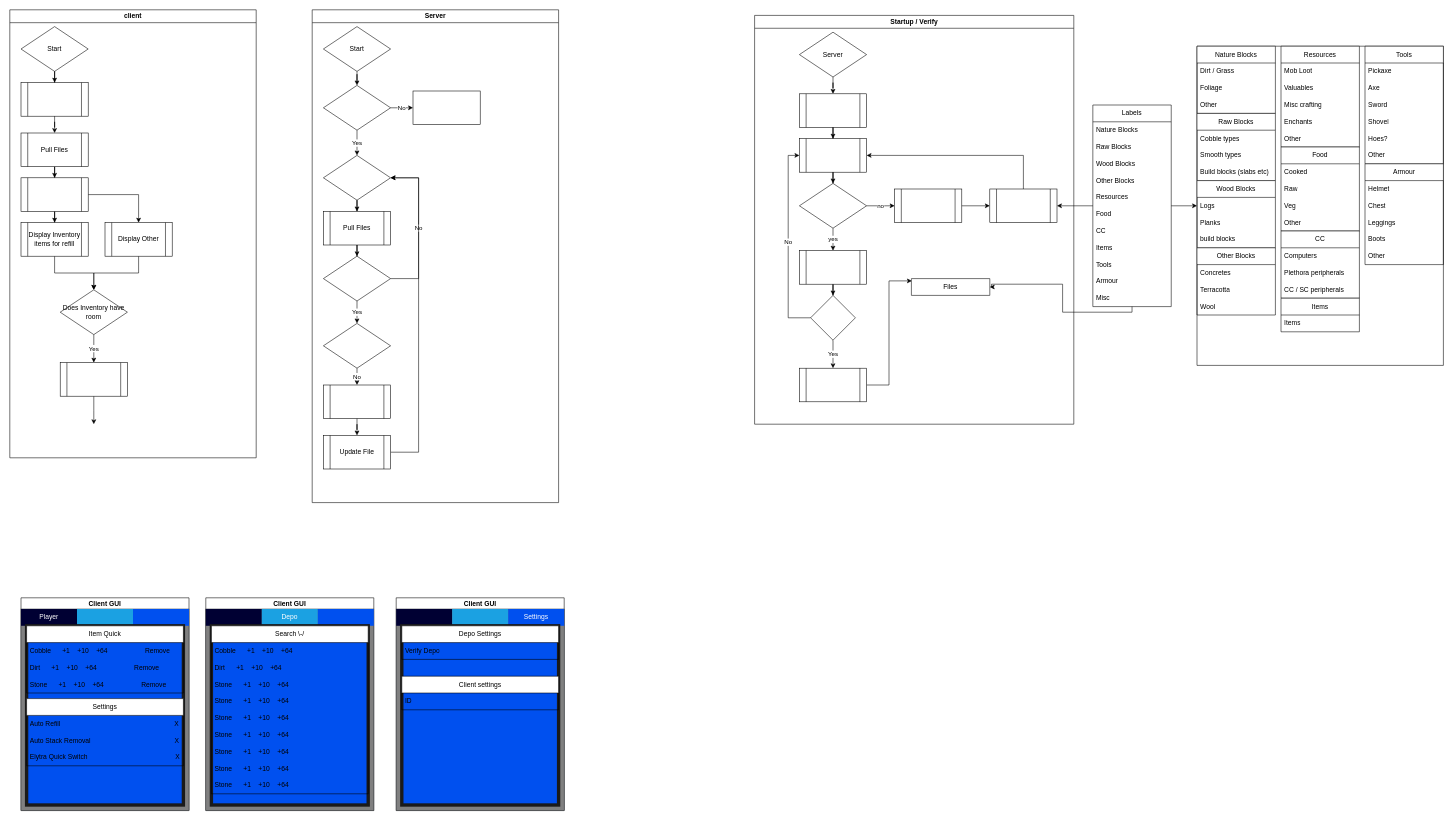
The diagram is 1453 pixels wide and 820 high, and some of its shapes have lost their labels. Each missing label, with the centre of its shape:
All containers labelled: point (832, 317)
Catalogue container into table: point (833, 267)
Do Files exist: point (357, 107)
Does container have label: point (833, 205)
Find closest match label on pre-established list: point (1023, 205)
Get all peripherals: point (833, 110)
Get Player Inventory: point (54, 194)
Identify container label: point (833, 155)
Identify contents: point (928, 205)
Is Client Connected: point (357, 177)
Is Player Inventory Full: point (357, 345)
Is Request for Items: point (357, 278)
Ping Server: point (54, 99)
Send Item amount: point (357, 401)
Send Request for Items: point (93, 379)
Startup: point (446, 107)
Write File: point (833, 385)
